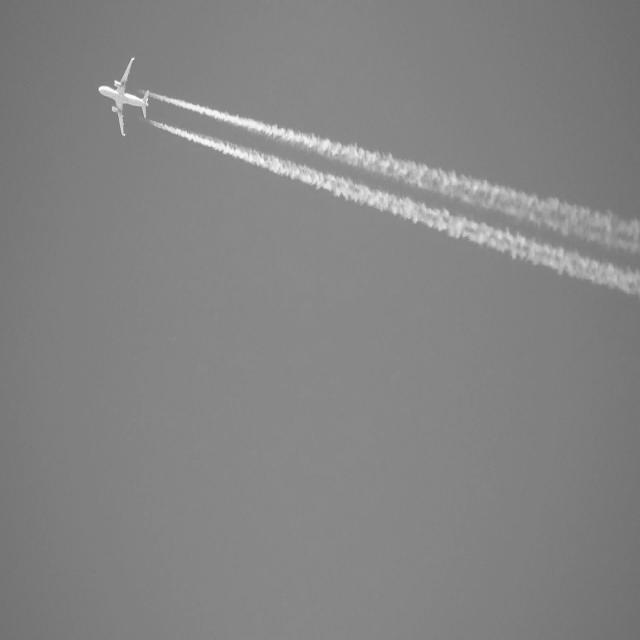aeroplane: (95, 55, 154, 144)
